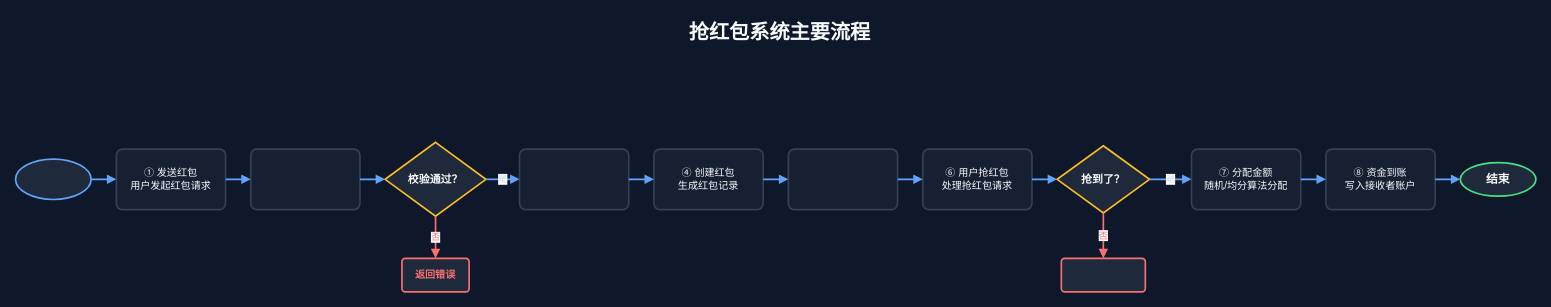
The diagram is 1551 pixels wide and 307 high, and some of its shapes have lost their labels. Here are the shapes that lost their labels. From the top down, the centre of each, then its label:
At (x=53, y=179): "开始".
At (x=304, y=179): "② 校验参数 验证金额、数量、余额".
At (x=573, y=179): "③ 冻结资金 冻结发送者账户金额".
At (x=842, y=179): "⑤ 发送通知 推送到群聊或目标用户".
At (x=1103, y=274): "显示手气不佳".
